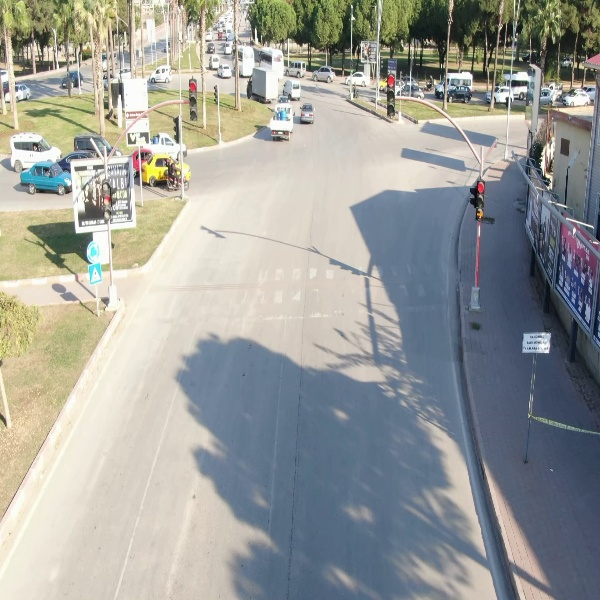car: (19, 157, 73, 199), (10, 129, 62, 169), (561, 85, 594, 109), (484, 83, 517, 106), (444, 85, 476, 105), (283, 75, 306, 101), (309, 65, 337, 85), (344, 69, 372, 88), (58, 67, 83, 88), (148, 63, 174, 83), (297, 101, 316, 125), (283, 60, 308, 78), (218, 62, 232, 80)
